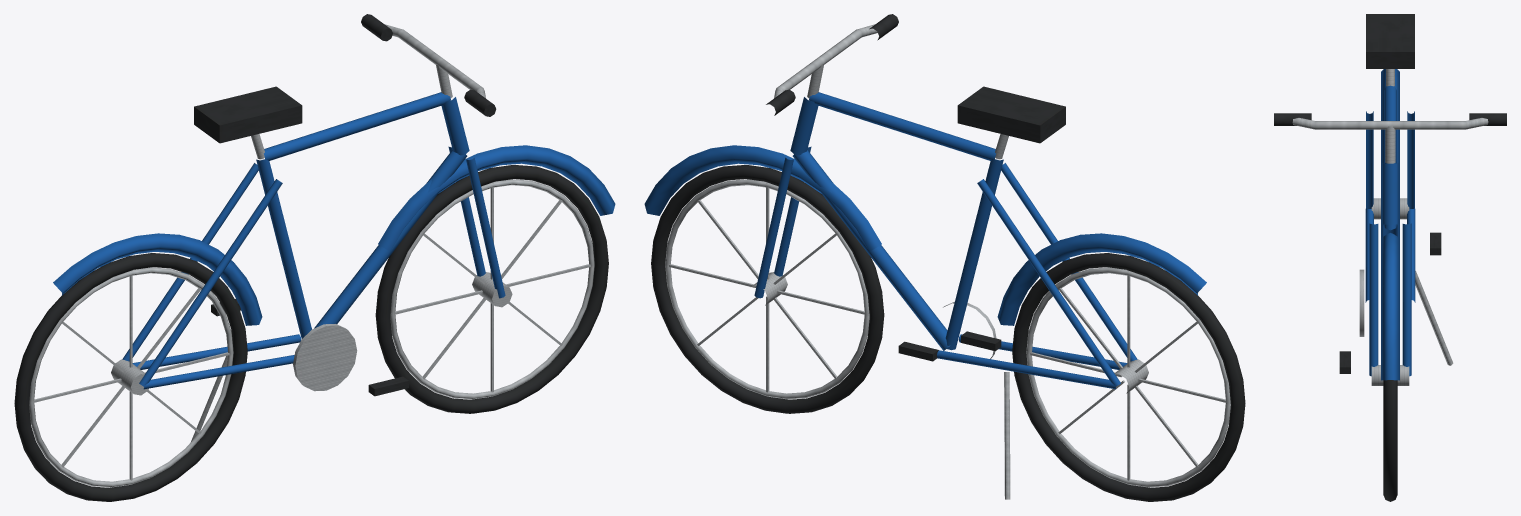
Rendered from velo_lod0.glb.
The picture shows the model from 3 angles, left to right: view 1: azimuth 30°, elevation 25°; view 2: azimuth 150°, elevation 25°; view 3: azimuth 270°, elevation 25°; orthographic projection. The views are drawn at different scales.
Parts seen in each view (by area): view 1: velo; view 2: velo; view 3: velo.
Part boxes in pixels (x1,y1,x2,y2): velo: (14, 14, 615, 501); velo: (644, 14, 1245, 501); velo: (1274, 14, 1506, 501).
Bounding box in the file's own units: 1.75 × 1.02 × 0.62.
1 material, 1 textured.
